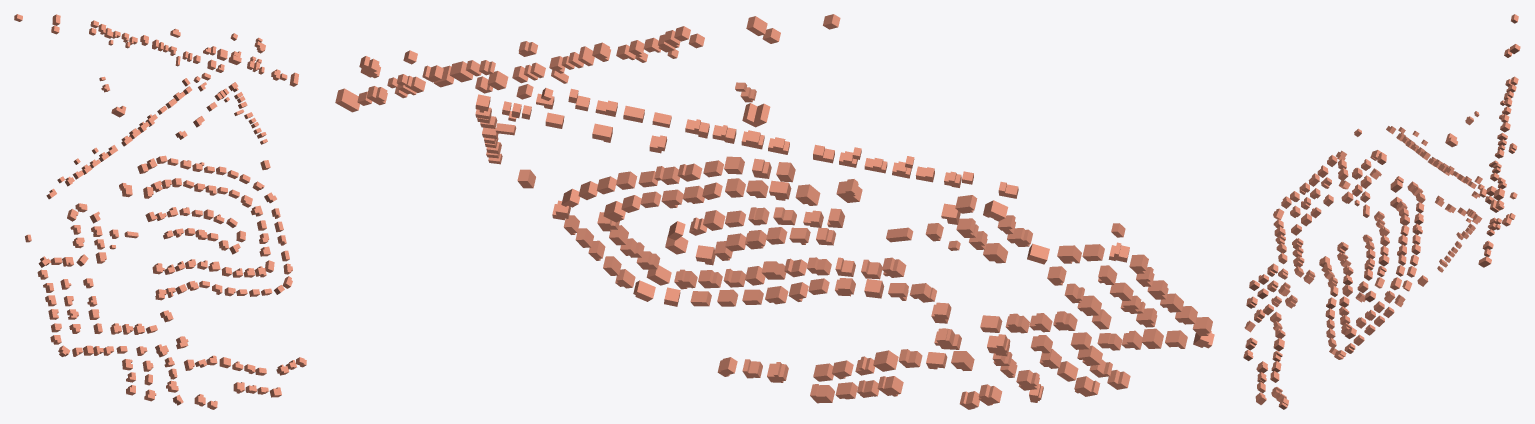
3 views of the same model, side by side, from view 1: azimuth 30°, elevation 25°; view 2: azimuth 150°, elevation 25°; view 3: azimuth 270°, elevation 25° (orthographic). The views are drawn at different scales.
Parts seen in each view (by area): view 1: mesh; view 2: mesh; view 3: mesh.
Boxes of the visible parts, box(x1,y1,x2,y2) form: mesh: box(14, 14, 306, 409); mesh: box(335, 14, 1214, 409); mesh: box(1243, 14, 1520, 409).
Bounding box in the file's own units: 861 × 769 × 594.
